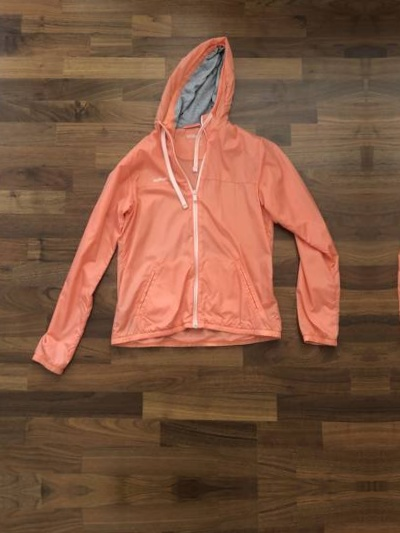Hoodie: (34, 43, 344, 403), (393, 37, 400, 398)
